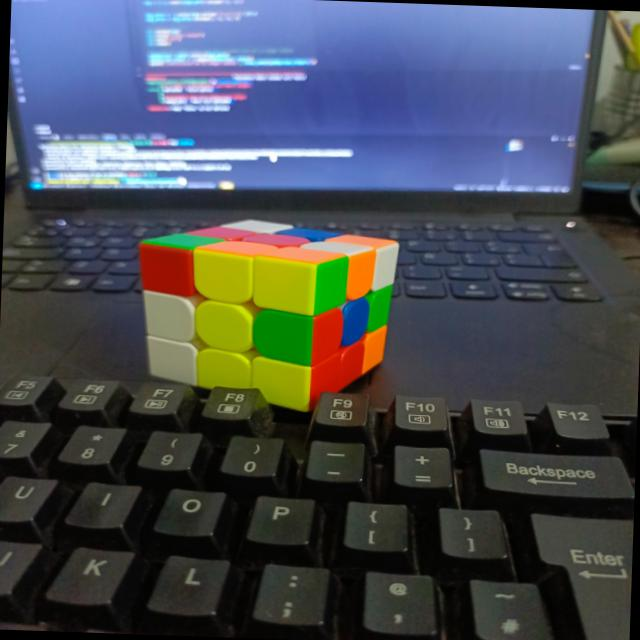rubik: (131, 214, 400, 414)
